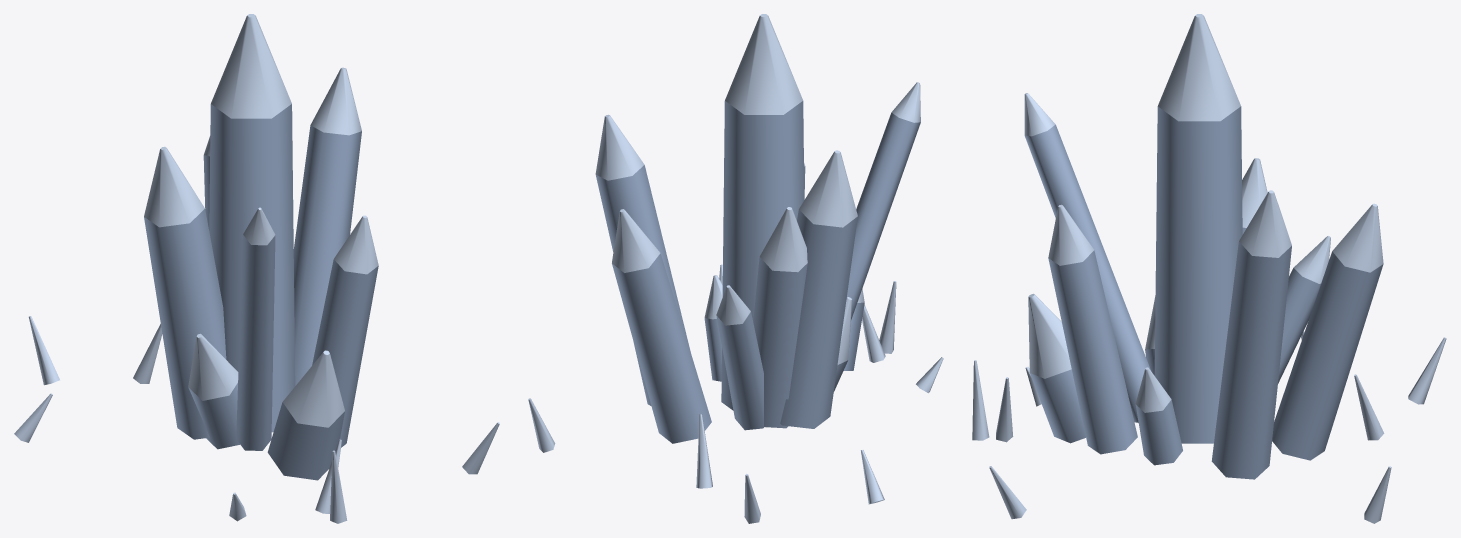
File: ore_silicon.fbx
3 views of the same model, side by side, from view 1: azimuth 30°, elevation 25°; view 2: azimuth 150°, elevation 25°; view 3: azimuth 270°, elevation 25° (orthographic). The views are drawn at different scales.
Parts seen in each view (by area): view 1: ore_silicon; view 2: ore_silicon; view 3: ore_silicon.
Part boxes in pixels (x1,y1,x2,y2): ore_silicon: (14, 14, 499, 523); ore_silicon: (528, 14, 943, 523); ore_silicon: (972, 14, 1446, 523).
Bounding box in the file's own units: 1.04 × 1.27 × 1.25.
